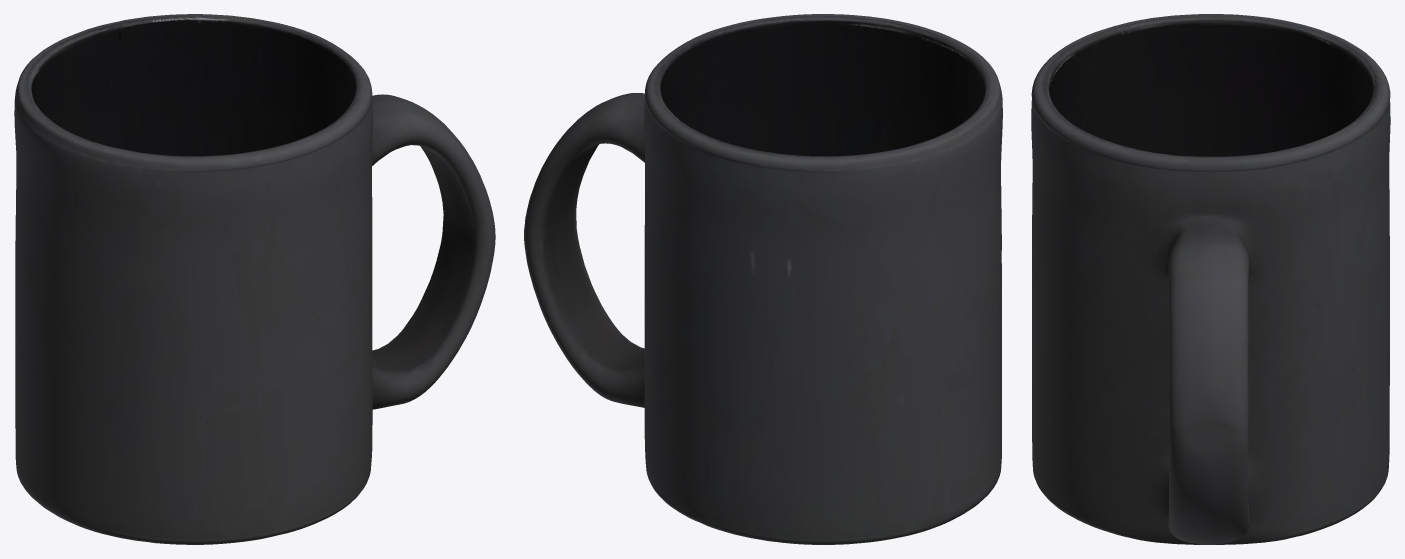
The model's file is model-15-mug.glb.
3 renders of one model, left to right at view 1: azimuth 30°, elevation 25°; view 2: azimuth 150°, elevation 25°; view 3: azimuth 270°, elevation 25°, orthographic.
Visible parts, largest first — view 1: node_0; view 2: node_0; view 3: node_0.
Boxes of the visible parts, x1=… form: node_0: x1=14, y1=14, x2=495, y2=544; node_0: x1=524, y1=14, x2=1002, y2=544; node_0: x1=1031, y1=14, x2=1390, y2=544.
Size of the model in its own units: 0.9335 by 0.7797 by 0.6549.
1 material, 1 textured.
